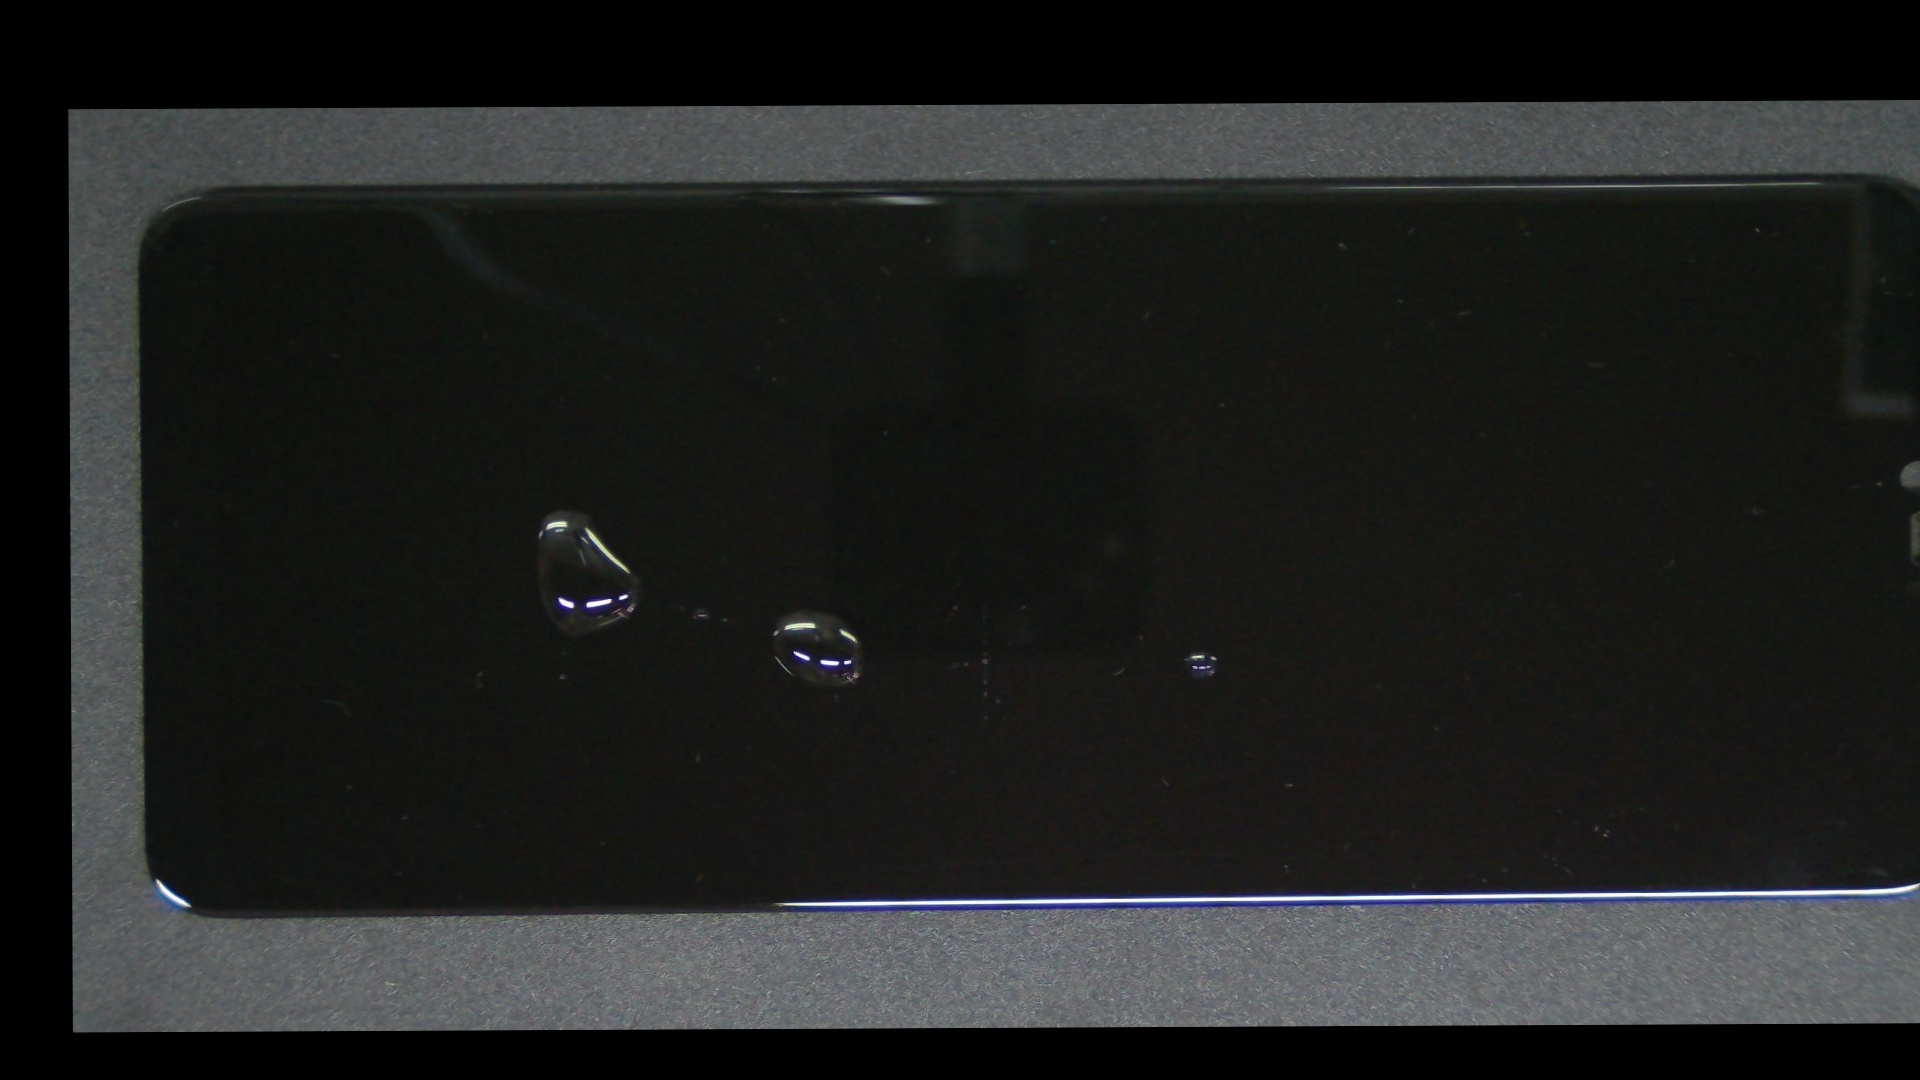oil: (632, 375, 1756, 930), (438, 356, 1176, 864), (315, 306, 807, 712)
